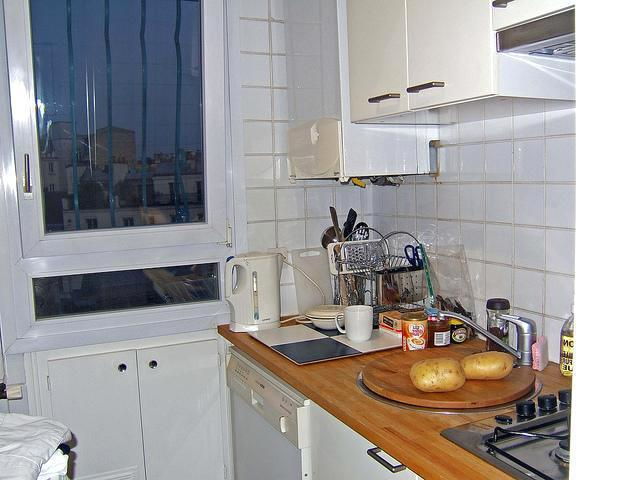Lavaplatos: (339, 287, 546, 431)
